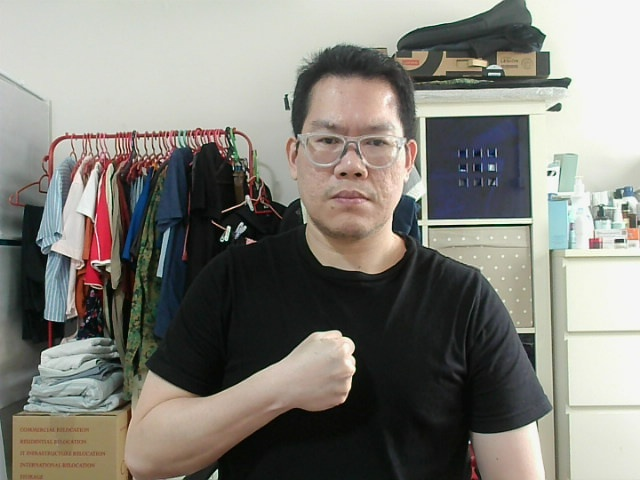sorry: (286, 334, 348, 400)
